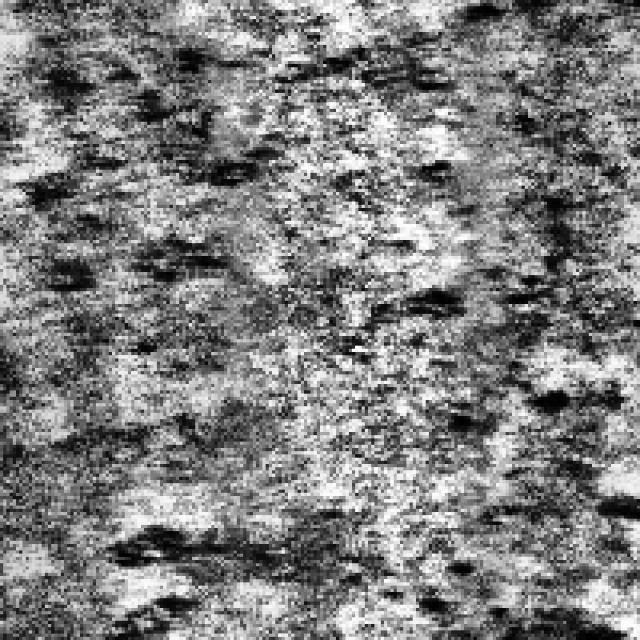Crazing: (387, 154, 624, 636), (26, 36, 266, 294), (51, 509, 259, 624)
